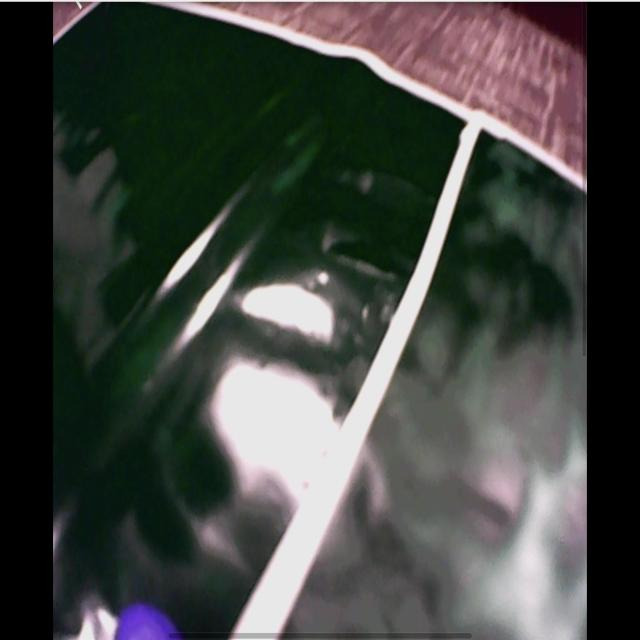ball: (116, 607, 178, 640)
